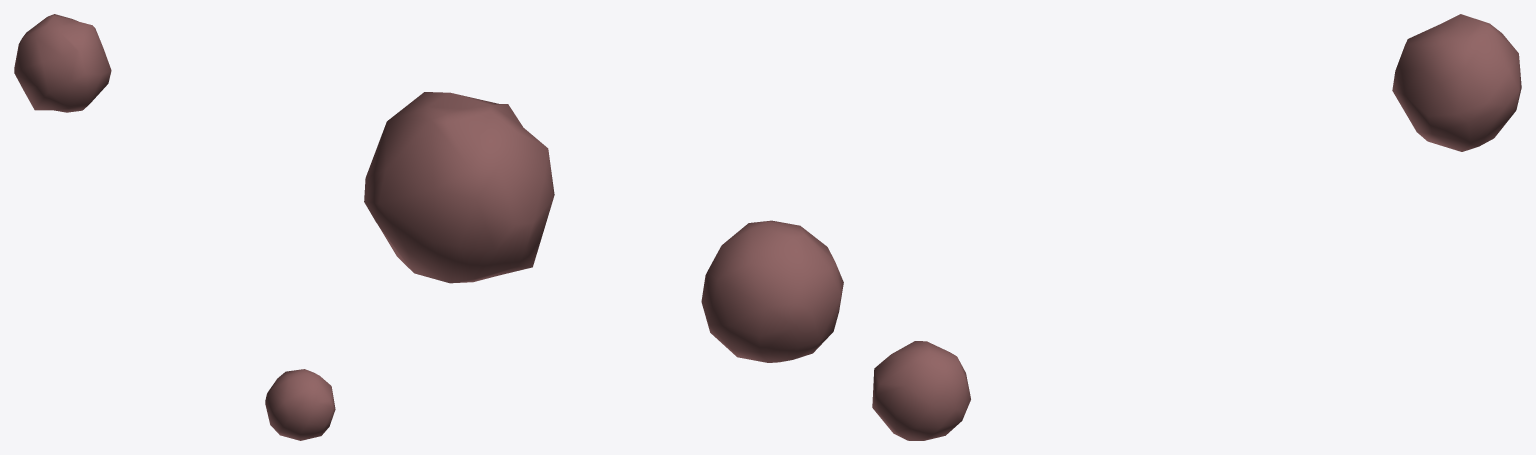
File: vacuole1.glb
3 renders of one model, left to right at view 1: azimuth 30°, elevation 25°; view 2: azimuth 150°, elevation 25°; view 3: azimuth 270°, elevation 25°, orthographic. The views are drawn at different scales.
Parts seen in each view (by area): view 1: Vacuole; view 2: Vacuole; view 3: Vacuole.
Part boxes in pixels (<box>): Vacuole: <box>14,14,335,440</box>; Vacuole: <box>364,92,843,362</box>; Vacuole: <box>872,14,1521,440</box>.
Size of the model in its own units: 1.93 by 4.59 by 7.02.
